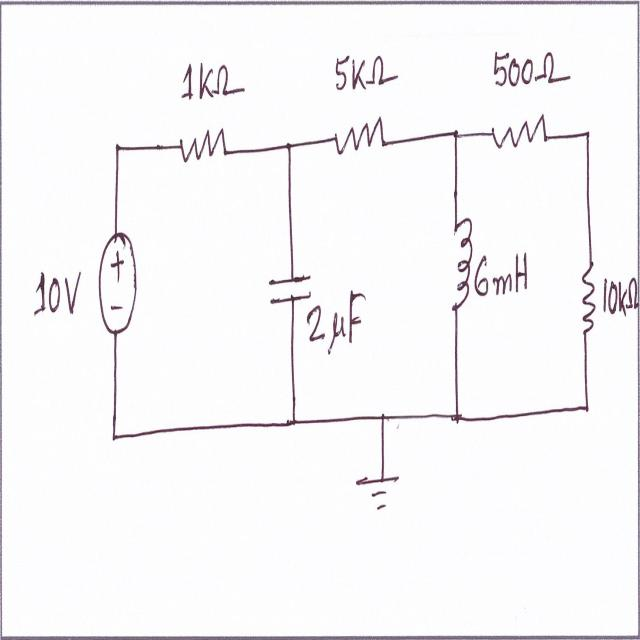capacitor: (265, 263, 313, 311)
ground: (352, 465, 407, 519)
inductor: (446, 209, 474, 323)
resistor: (482, 107, 552, 165), (327, 114, 393, 170), (170, 125, 232, 167), (576, 258, 600, 346)
voltage_source: (94, 216, 143, 349)
